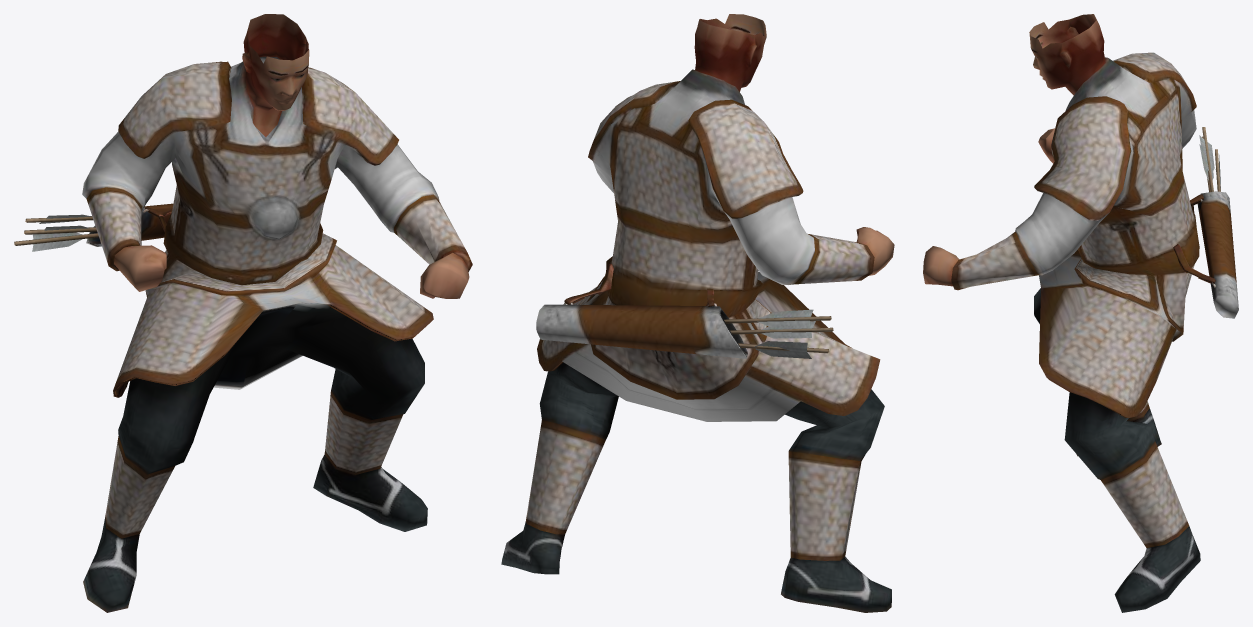
File: rider-slice-championcavalry.glb
3 renders of one model, left to right at view 1: azimuth 30°, elevation 25°; view 2: azimuth 150°, elevation 25°; view 3: azimuth 270°, elevation 25°, orthographic. The views are drawn at different scales.
Bounding box in the file's own units: 1.21 × 1.79 × 0.9942.
Materials: 1 (1 with a texture image).
